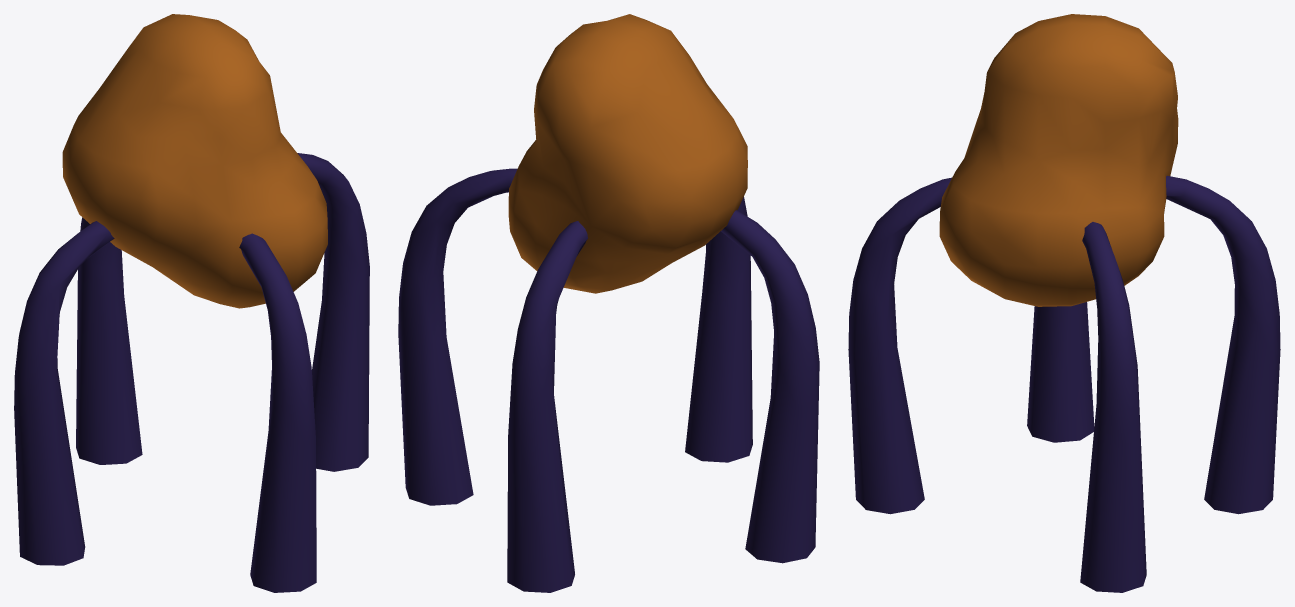
The model's file is tree-blob-3.glb.
3 views of the same model, side by side, from view 1: azimuth 30°, elevation 25°; view 2: azimuth 150°, elevation 25°; view 3: azimuth 270°, elevation 25° (orthographic). The views are drawn at different scales.
Visible parts, largest first — view 1: Tree_Blob_3; view 2: Tree_Blob_3; view 3: Tree_Blob_3.
Boxes of the visible parts, x1,y1,x2,y2 form: Tree_Blob_3: (14, 14, 369, 592); Tree_Blob_3: (398, 14, 819, 592); Tree_Blob_3: (848, 14, 1280, 592).
Bounding box in the file's own units: 2.8 × 3.42 × 2.77.
